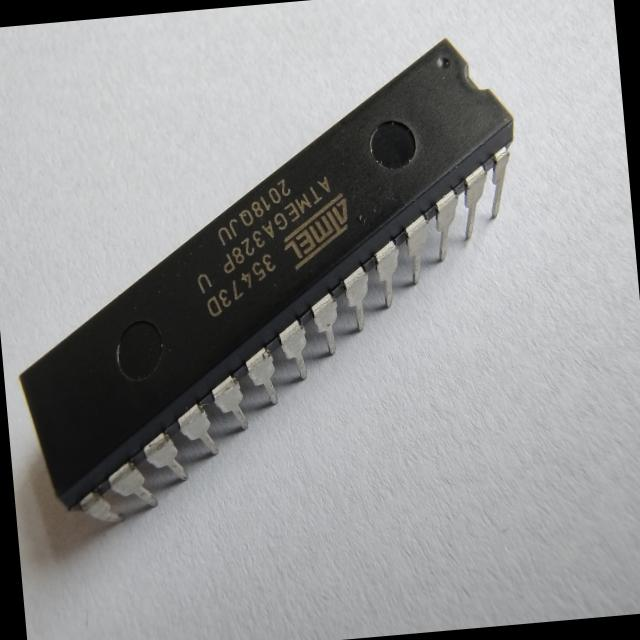atmega: (0, 29, 547, 532)
